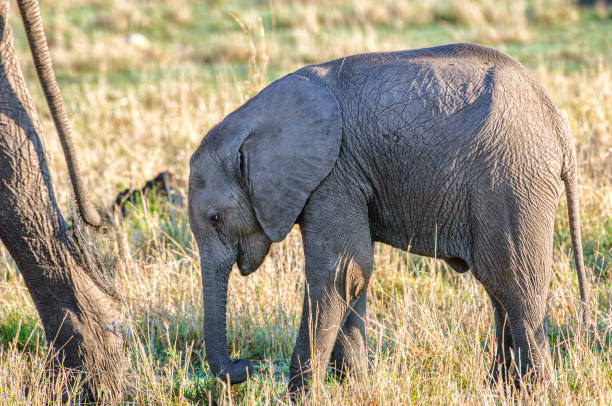africanelephant: (161, 117, 318, 288)
